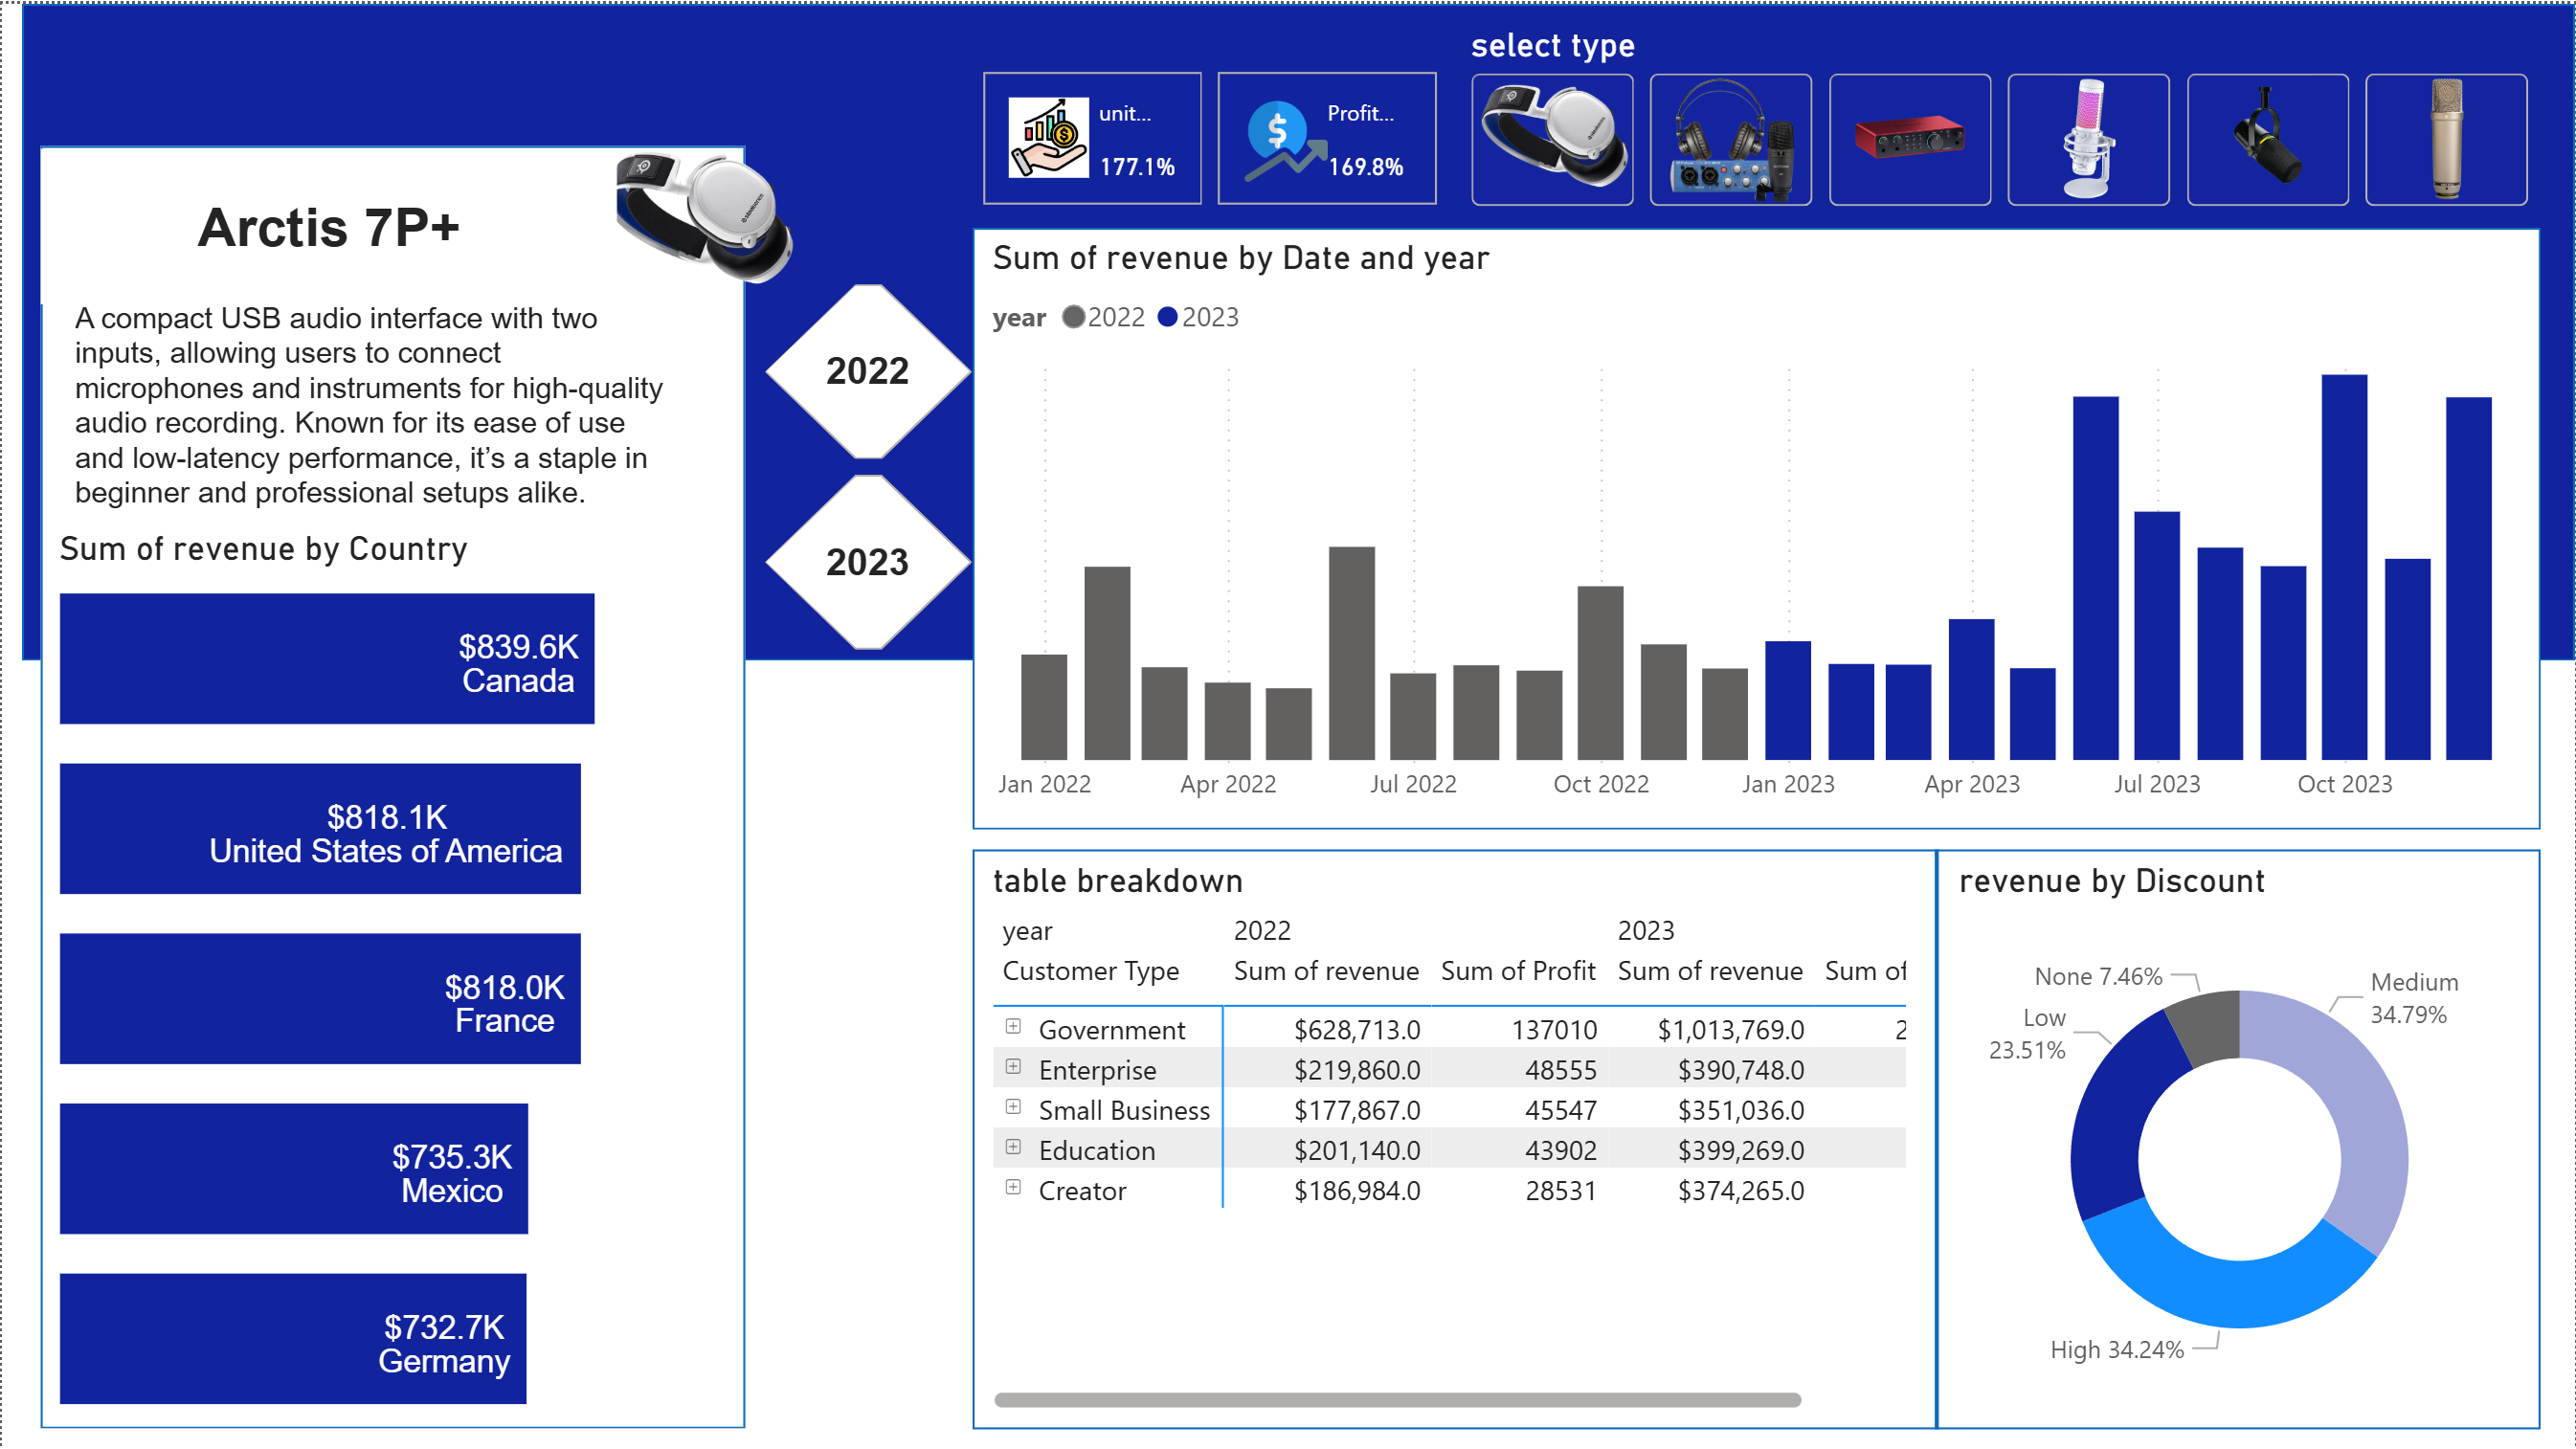

What the dashboard file says about the page in this screenshot:
{"tool":"powerbi","page":{"name":"Page 1","canvas":[1280,720],"ordinal":0},"visuals":[{"type":"shape","box":[9.8,0,1270,327],"z":0},{"type":"shape","box":[19,70.6,350.5,638.3],"z":1000},{"type":"shape","box":[482.6,111.2,780.2,299.5],"z":2000},{"type":"shape","box":[482.9,420.7,780,288.6],"z":3000},{"type":"advancedSlicerVisual","title":"select type","fields":{"Values":["Query1.Image url"]},"box":[725.9,9.8,536.9,95.5],"z":4000},{"type":"cardVisual","fields":{"Data":["Min(Query1.Product)"]},"box":[261.1,29.1,151.4,163.3],"z":5000},{"type":"cardVisual","fields":{"Data":["Min(Query1.Description)"]},"box":[19.3,110.7,330,171.4],"z":6000},{"type":"clusteredBarChart","fields":{"Category":["Query1.Country"],"Y":["Sum(Query1.revenue)"]},"box":[23.5,260.9,340.7,443.4],"z":7000},{"type":"columnChart","fields":{"Category":["Query1.Date"],"Y":["Sum(Query1.revenue)"],"Series":["Query1.year"]},"box":[487.9,115.7,769.5,290.2],"z":8000},{"type":"donutChart","title":" revenue by Discount ","fields":{"Category":["Query1.Discount Band"],"Y":["Sum(Query1.revenue)"]},"box":[968.6,425.7,288.6,278.6],"z":9000},{"type":"advancedSlicerVisual","fields":{"Values":["Query1.year"]},"box":[374.3,134.3,113.6,192.9],"z":10000},{"type":"pivotTable","title":"table breakdown","fields":{"Rows":["Query1.Customer Type","Query1.Product"],"Values":["Sum(Query1.revenue)","Sum(Query1.Profit)"],"Columns":["Query1.year"]},"box":[487.9,425.7,464.3,278.6],"z":11000},{"type":"shape","box":[940,420.7,45,288.6],"z":12000},{"type":"cardVisual","fields":{"Data":["Query1.unit sold per year","Query1.Profit per year"]},"box":[482.9,28.6,237.1,76.4],"z":13000},{"type":"card","fields":{"Values":["Min(Query1.Product)"]},"box":[19.3,72.1,286.4,77.1],"z":14000}]}

Visuals, with their boxes in screenshot pixels (x1, y1, x2, y2), scaled from the page's 1280x720 canvas onto the 2576x1449 screenshot:
shape: locate(20, 0, 2575, 658)
shape: locate(38, 142, 744, 1427)
shape: locate(972, 224, 2542, 827)
shape: locate(972, 847, 2542, 1428)
"select type" advancedSlicerVisual: locate(1461, 20, 2542, 212)
cardVisual - Min(Query1.Product): locate(526, 58, 830, 388)
cardVisual - Min(Query1.Description): locate(39, 223, 703, 568)
clusteredBarChart - Query1.Country x Sum(Query1.revenue): locate(47, 525, 733, 1417)
columnChart - Query1.Date x Sum(Query1.revenue): locate(982, 233, 2530, 817)
" revenue by Discount " donutChart: locate(1949, 857, 2530, 1417)
advancedSlicerVisual - Query1.year: locate(753, 270, 982, 658)
"table breakdown" pivotTable: locate(982, 857, 1916, 1417)
shape: locate(1892, 847, 1982, 1428)
cardVisual - Query1.unit sold per year x Query1.Profit per year: locate(972, 57, 1449, 212)
card - Min(Query1.Product): locate(39, 145, 616, 301)
